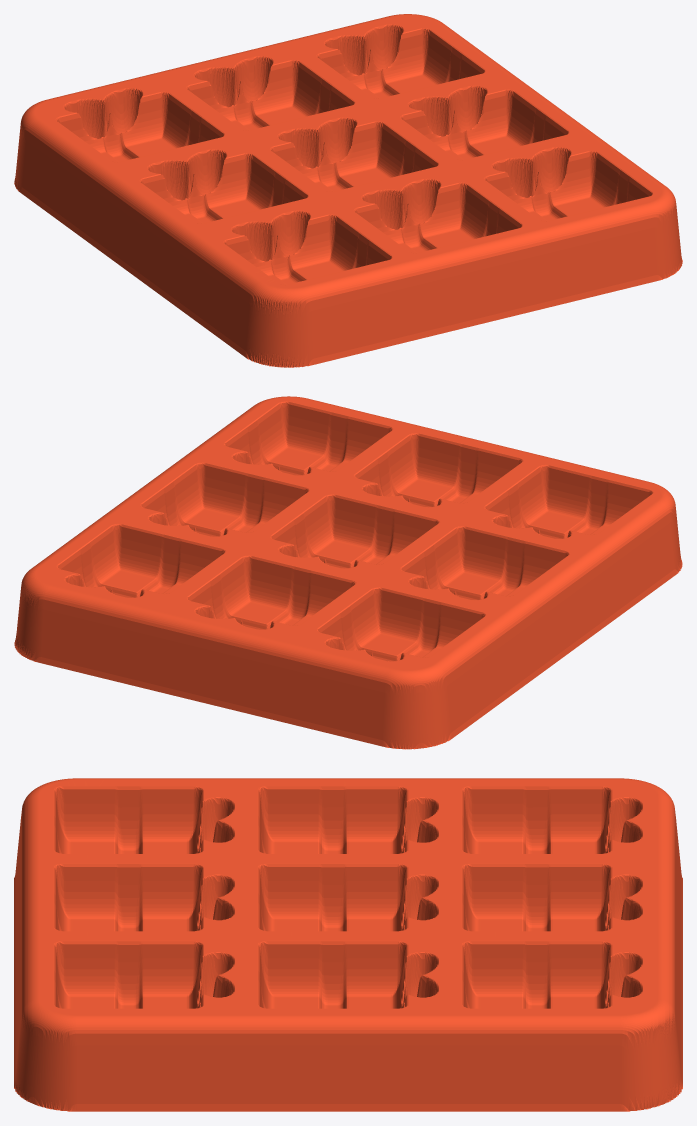
File: mold.glb
The picture shows the model from 3 angles, top to bottom: view 1: azimuth 30°, elevation 25°; view 2: azimuth 150°, elevation 25°; view 3: azimuth 270°, elevation 25°; orthographic projection. The views are drawn at different scales.
Parts seen in each view (by area): view 1: geometry_0; view 2: geometry_0; view 3: geometry_0.
Boxes of the visible parts, bbox=[...] form: geometry_0: bbox=[14, 14, 682, 367]; geometry_0: bbox=[14, 396, 682, 749]; geometry_0: bbox=[14, 778, 682, 1111].
Bounding box in the file's own units: 0.0874 × 0.0136 × 0.0964.
